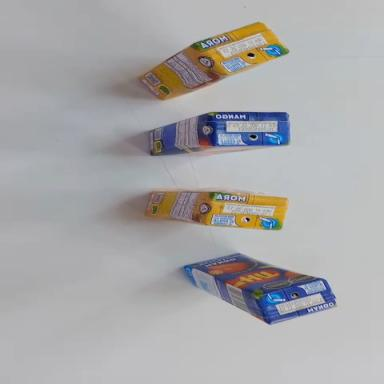HIT-MANGO: (176, 240, 342, 342), (146, 105, 291, 161)
HIT-MORA: (135, 12, 289, 108), (144, 185, 289, 232)
cara_F: (185, 240, 324, 313), (151, 145, 287, 156)
